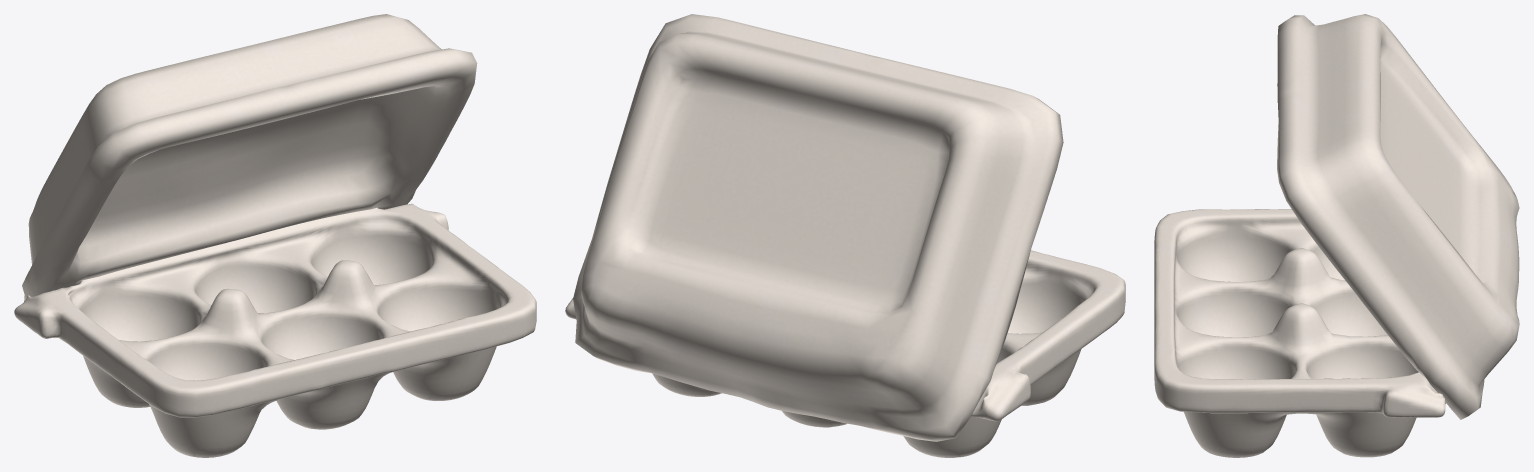
File: eggbox.fbx
3 views of the same model, side by side, from view 1: azimuth 30°, elevation 25°; view 2: azimuth 150°, elevation 25°; view 3: azimuth 270°, elevation 25° (orthographic). The views are drawn at different scales.
Parts seen in each view (by area): view 1: ZBrush_defualt_group001zz; view 2: ZBrush_defualt_group001zz; view 3: ZBrush_defualt_group001zz.
Part boxes in pixels (bbox=[...]): ZBrush_defualt_group001zz: bbox=[14, 14, 536, 457]; ZBrush_defualt_group001zz: bbox=[565, 14, 1125, 457]; ZBrush_defualt_group001zz: bbox=[1154, 14, 1519, 457].
Bounding box in the file's own units: 2523 × 1921 × 2016.
Materials: 1 (1 with a texture image).
